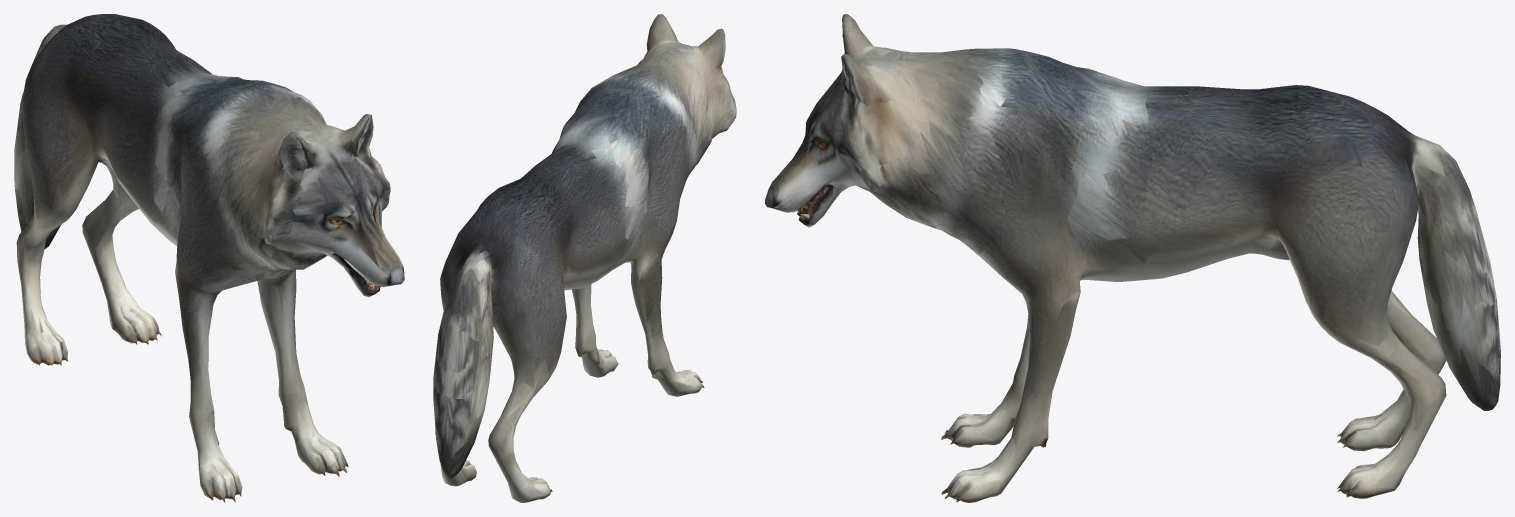
The model's file is wolf.glb.
3 renders of one model, left to right at view 1: azimuth 30°, elevation 25°; view 2: azimuth 150°, elevation 25°; view 3: azimuth 270°, elevation 25°, orthographic. The views are drawn at different scales.
Parts seen in each view (by area): view 1: Mesh_0; view 2: Mesh_0; view 3: Mesh_0.
Boxes of the visible parts, x1,y1,x2,y2 form: Mesh_0: [14, 14, 404, 502]; Mesh_0: [433, 14, 736, 502]; Mesh_0: [765, 14, 1500, 502].
Size of the model in its own units: 0.3643 by 1 by 1.53.
1 material, 1 textured.
